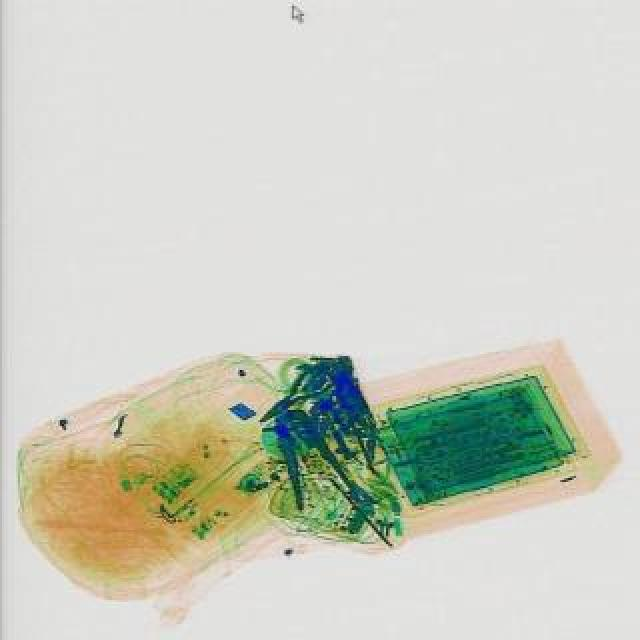wrench: (256, 402, 356, 518), (248, 362, 336, 434)
